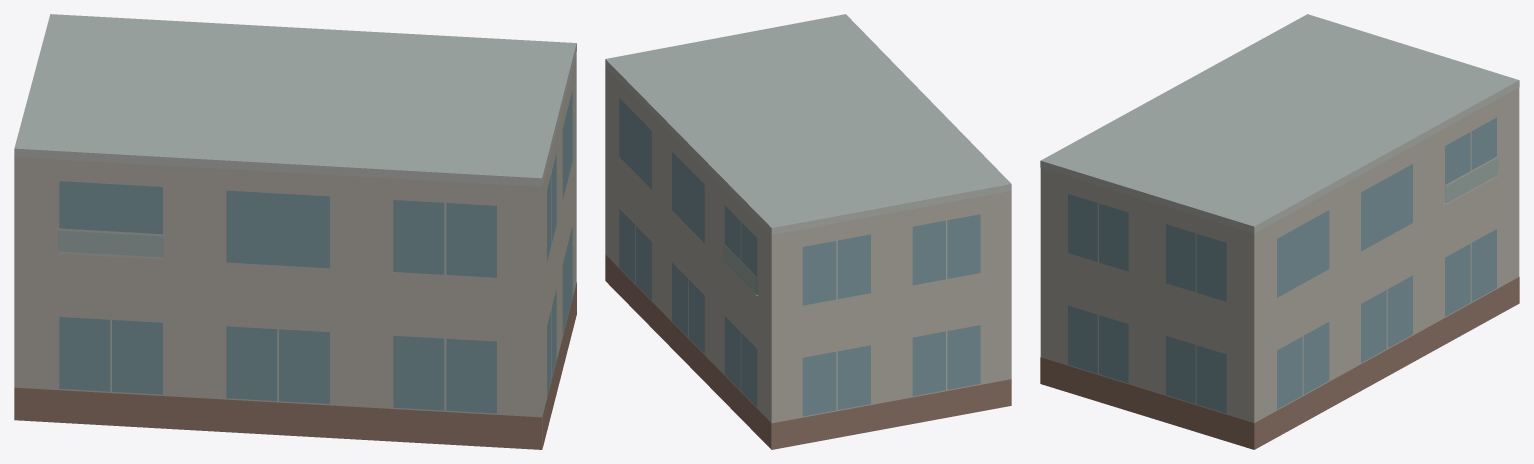
File: survey-upis-32629651.glb
3 views of the same model, side by side, from view 1: azimuth 30°, elevation 25°; view 2: azimuth 150°, elevation 25°; view 3: azimuth 270°, elevation 25° (orthographic). The views are drawn at different scales.
Parts seen in each view (by area): view 1: survey-upis-32629651.tmp; view 2: survey-upis-32629651.tmp; view 3: survey-upis-32629651.tmp.
Part boxes in pixels (bbox=[...]): survey-upis-32629651.tmp: bbox=[14, 14, 576, 449]; survey-upis-32629651.tmp: bbox=[605, 14, 1011, 449]; survey-upis-32629651.tmp: bbox=[1040, 14, 1519, 449].
Bounding box in the file's own units: 15.94 × 7.8 × 15.18.
